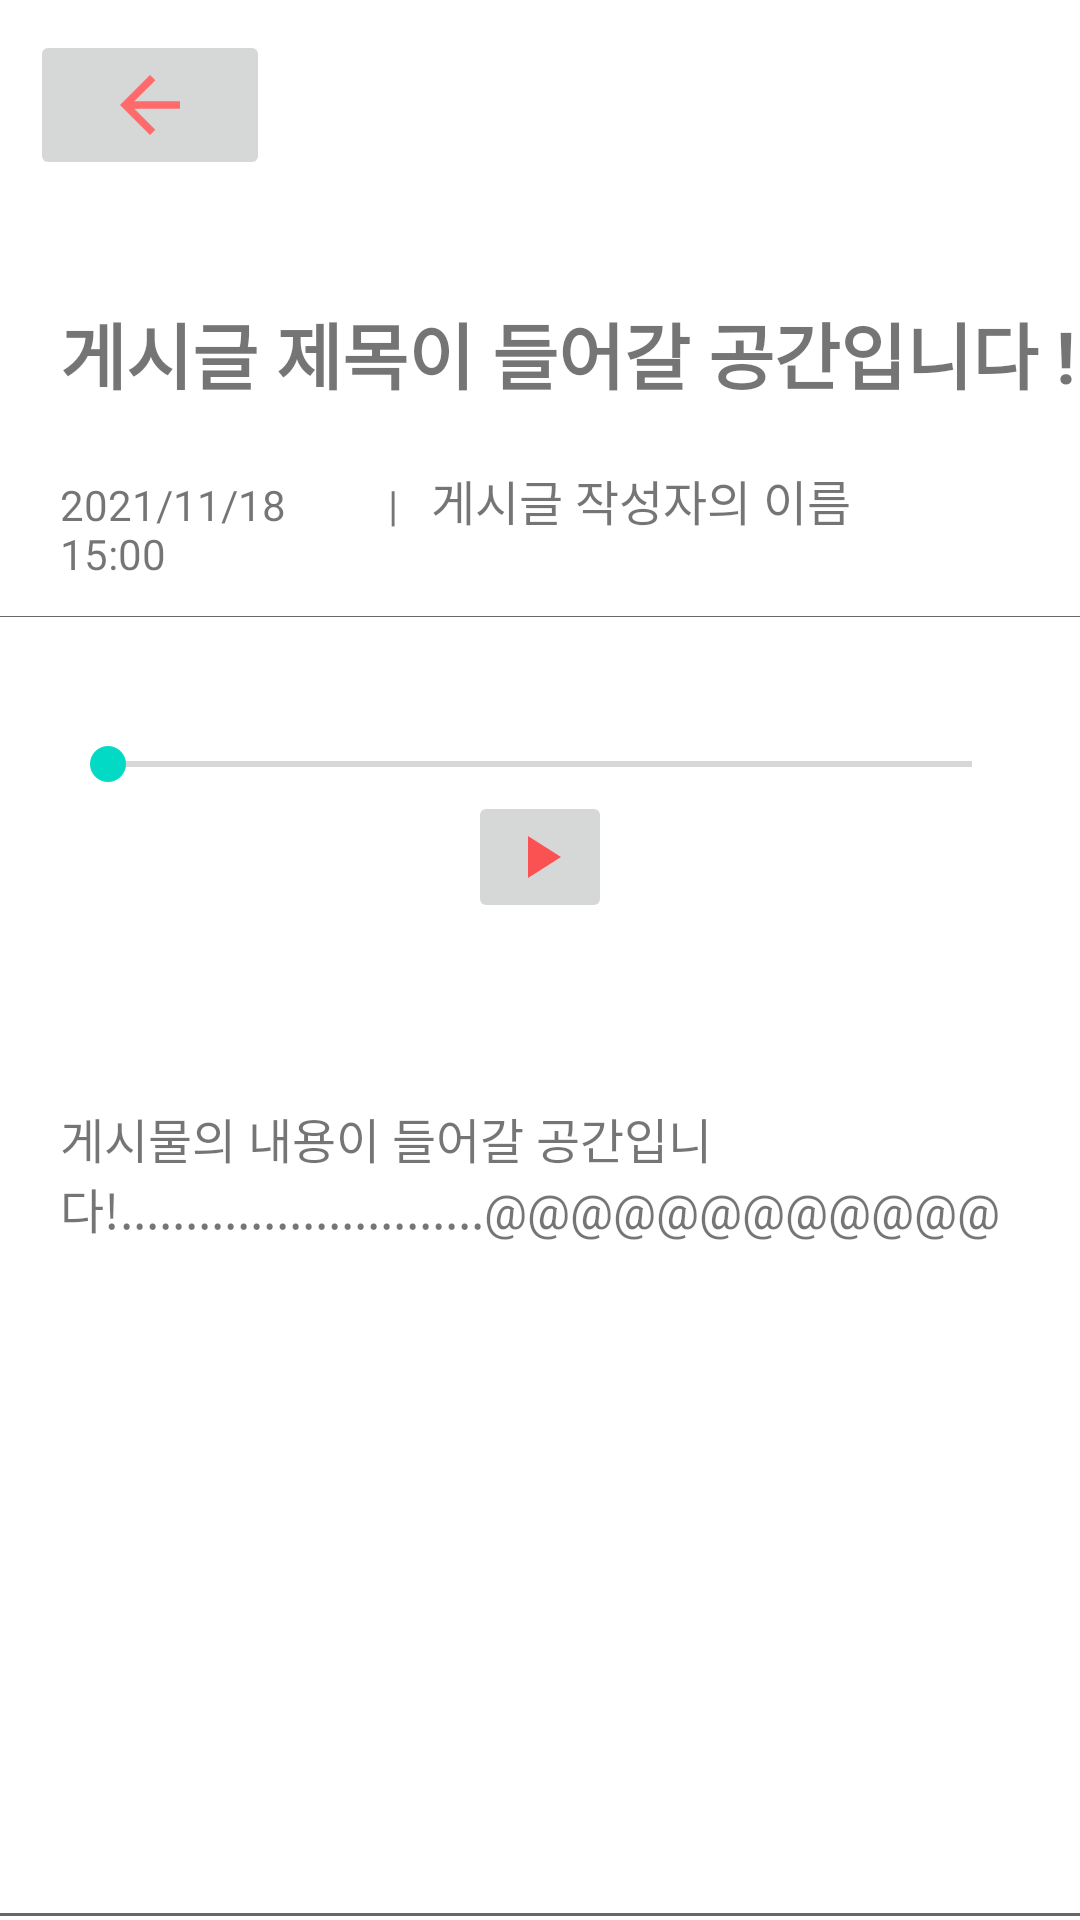

Screen size 1080 x 1920. Icon name, then its center in pixels as point (x, y):
arrow back: point (150, 105)
play: point (540, 857)
